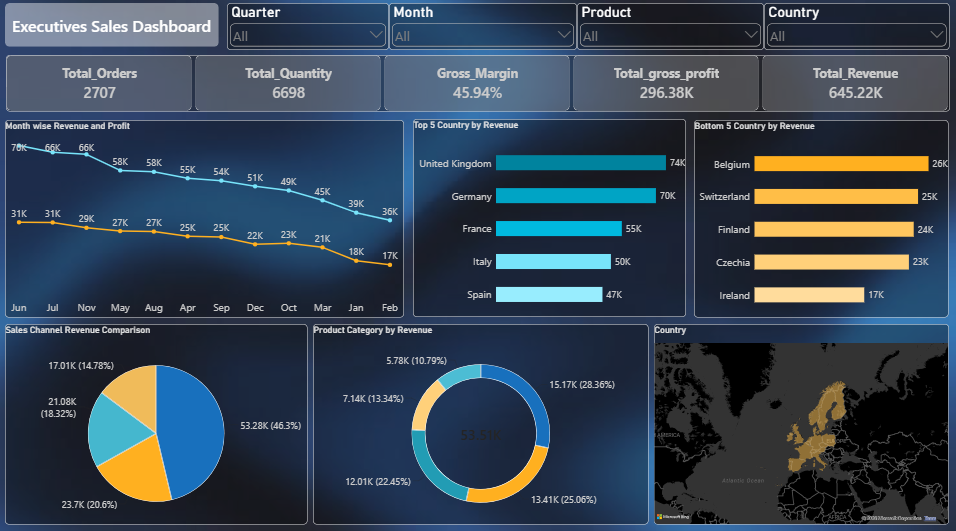

Layout of this report page (visuals, bound fields, positions):
{"tool":"powerbi","page":{"name":"Page 1","canvas":[1920,1080],"ordinal":0},"visuals":[{"type":"cardVisual","fields":{"Data":["All_Measures.Total_Orders","All_Measures.Total_Quantity","All_Measures.Gross_Margin","All_Measures.Total_gross_profit","All_Measures.Total_Revenue"]},"box":[15,117.5,1887.5,112.5],"z":0},{"type":"shape","box":[14.5,14.5,427.5,87.5],"z":1000,"group":"g1"},{"type":"slicer","fields":{"Values":["Date table.Quarter"]},"box":[457.5,15,307.5,92.5],"z":1000},{"type":"slicer","fields":{"Values":["Date table.Month_Name"]},"box":[762.5,15,392.5,92.5],"z":2000},{"type":"textbox","box":[29,37.4,500,150],"z":2000,"group":"g1"},{"type":"slicer","fields":{"Values":["SalesData.Product Category"]},"box":[1158,14.5,373.9,93.5],"z":3000},{"type":"slicer","fields":{"Values":["SalesData.Country"]},"box":[1531.9,14.5,371.5,93.5],"z":4000},{"type":"lineChart","title":"Month wise Revenue and Profit","fields":{"Category":["Date table.Month_Name"],"Y":["All_Measures.Total_Revenue"],"Y2":["All_Measures.Total_gross_profit"]},"box":[14.5,247.3,797.9,394.8],"z":5000},{"type":"clusteredBarChart","title":"Top 5 Country by Revenue","fields":{"Category":["SalesData.Country"],"Y":["All_Measures.Total_Revenue"]},"box":[829.4,246.4,545.9,396.1],"z":6000},{"type":"clusteredBarChart","title":"Bottom 5 Country by Revenue","fields":{"Category":["SalesData.Country"],"Y":["All_Measures.Total_Revenue"]},"box":[1392.2,247.3,509.1,394.8],"z":7000},{"type":"donutChart","title":"Product Category by Revenue","fields":{"Category":["SalesData.Product Category"],"Y":["All_Measures.Total_gross_profit"]},"box":[629.6,656.6,671.2,401],"z":8000},{"type":"pieChart","title":"Sales Channel Revenue Comparison","fields":{"Category":["SalesData.Sales Channel"],"Y":["All_Measures.Total_Revenue"]},"box":[14.5,656.6,604.7,401],"z":9000},{"type":"filledMap","title":" Country","fields":{"Category":["SalesData.Country"]},"box":[1311.2,656.6,590.1,401],"z":10000},{"type":"group","id":"g1","title":"Group 1","box":[14.5,14.5,515.3,172.5],"z":11000}]}

Visuals, with their boxes in screenshot pixels (x1, y1, x2, y2), scaled from the page's 1920x1080 canvas onto the 956x531 screenshot:
cardVisual - All_Measures.Total_Orders x All_Measures.Total_Quantity: BBox(7, 58, 947, 113)
shape: BBox(7, 7, 220, 50)
slicer - Date table.Quarter: BBox(228, 7, 381, 53)
slicer - Date table.Month_Name: BBox(380, 7, 575, 53)
textbox: BBox(14, 18, 263, 92)
slicer - SalesData.Product Category: BBox(577, 7, 763, 53)
slicer - SalesData.Country: BBox(763, 7, 948, 53)
"Month wise Revenue and Profit" lineChart: BBox(7, 122, 405, 316)
"Top 5 Country by Revenue" clusteredBarChart: BBox(413, 121, 685, 316)
"Bottom 5 Country by Revenue" clusteredBarChart: BBox(693, 122, 947, 316)
"Product Category by Revenue" donutChart: BBox(313, 323, 648, 520)
"Sales Channel Revenue Comparison" pieChart: BBox(7, 323, 308, 520)
" Country" filledMap: BBox(653, 323, 947, 520)
"Group 1" group: BBox(7, 7, 264, 92)
